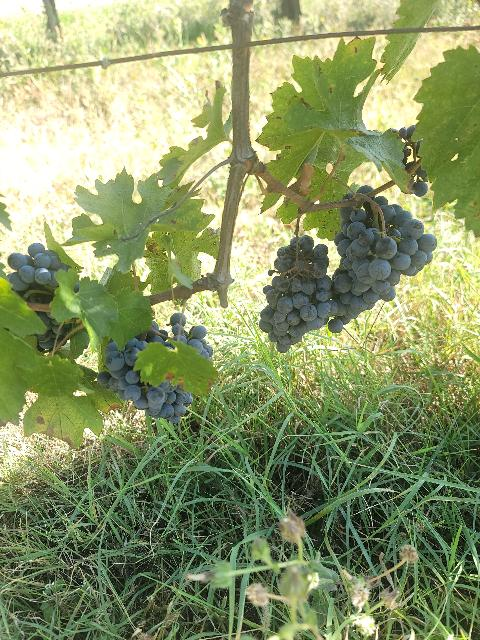grapes: (328, 204, 438, 332), (96, 312, 214, 424), (259, 235, 339, 352), (8, 242, 70, 304), (36, 310, 71, 352)
